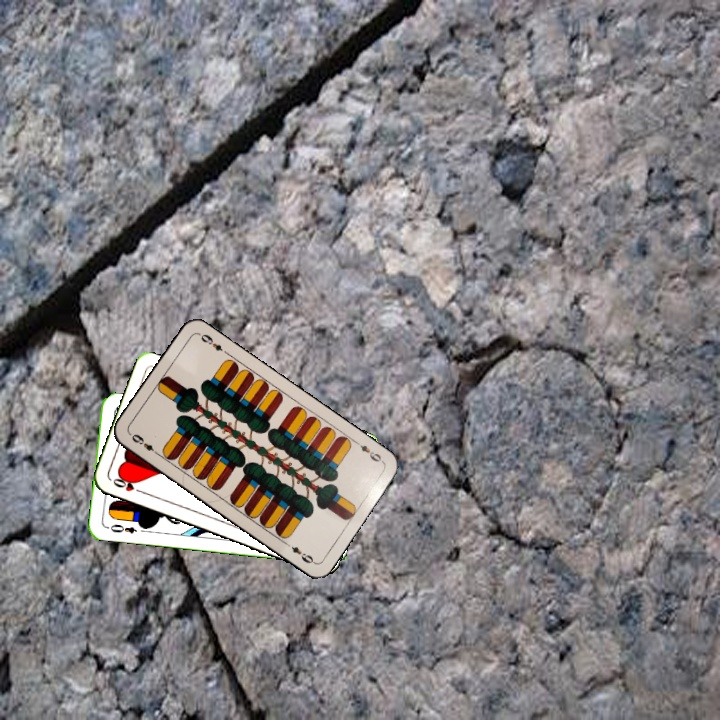E9: (351, 437, 386, 465), (128, 430, 162, 458)
EO: (106, 520, 139, 536)
HO: (109, 473, 147, 496)
